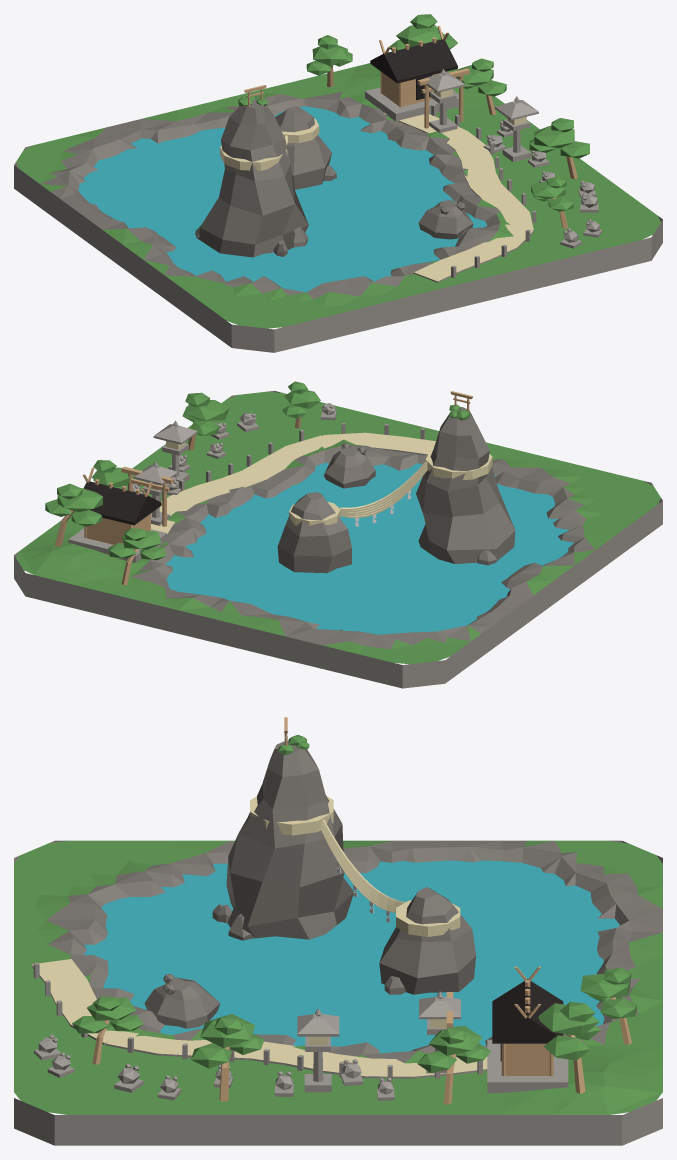
The model's file is meoto-iwa.glb.
The picture shows the model from 3 angles, top to bottom: view 1: azimuth 30°, elevation 25°; view 2: azimuth 150°, elevation 25°; view 3: azimuth 270°, elevation 25°; orthographic projection. The views are drawn at different scales.
Parts seen in each view (by area): view 1: meoto_water, meoto_foliage, meoto_darkstone, meoto_stone, meoto_cream, meoto_wood, meoto_roof; view 2: meoto_water, meoto_foliage, meoto_darkstone, meoto_stone, meoto_cream, meoto_wood, meoto_roof; view 3: meoto_foliage, meoto_water, meoto_darkstone, meoto_stone, meoto_cream, meoto_wood, meoto_roof.
Part boxes in pixels (<box>): meoto_water: <box>78,106,487,292</box>; meoto_foliage: <box>16,14,660,328</box>; meoto_darkstone: <box>40,91,500,299</box>; meoto_stone: <box>14,68,662,352</box>; meoto_cream: <box>220,106,533,281</box>; meoto_wood: <box>244,26,577,228</box>; meoto_roof: <box>370,39,457,100</box>; meoto_water: <box>165,463,574,634</box>; meoto_foliage: <box>16,381,660,664</box>; meoto_darkstone: <box>130,407,594,649</box>; meoto_stone: <box>14,390,662,688</box>; meoto_cream: <box>151,432,492,546</box>; meoto_wood: <box>54,391,472,585</box>; meoto_roof: <box>83,481,161,525</box>; meoto_foliage: <box>14,735,662,1114</box>; meoto_water: <box>83,860,620,1053</box>; meoto_darkstone: <box>46,740,662,1062</box>; meoto_stone: <box>14,840,662,1145</box>; meoto_cream: <box>32,796,487,1076</box>; meoto_wood: <box>92,717,631,1104</box>; meoto_roof: <box>492,979,563,1061</box>.
Size of the model in its own units: 19.2 by 7.14 by 19.2.
